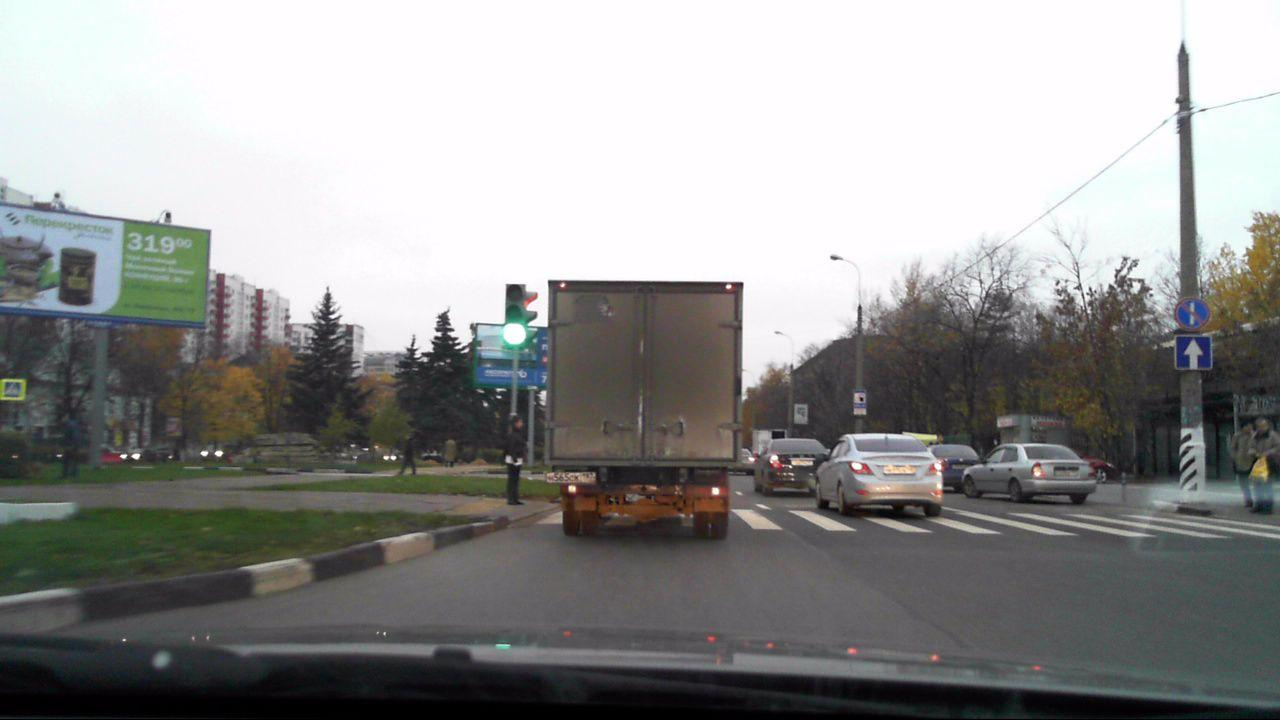3_29: (1174, 297, 1210, 329)
5_5: (1175, 335, 1211, 370)
